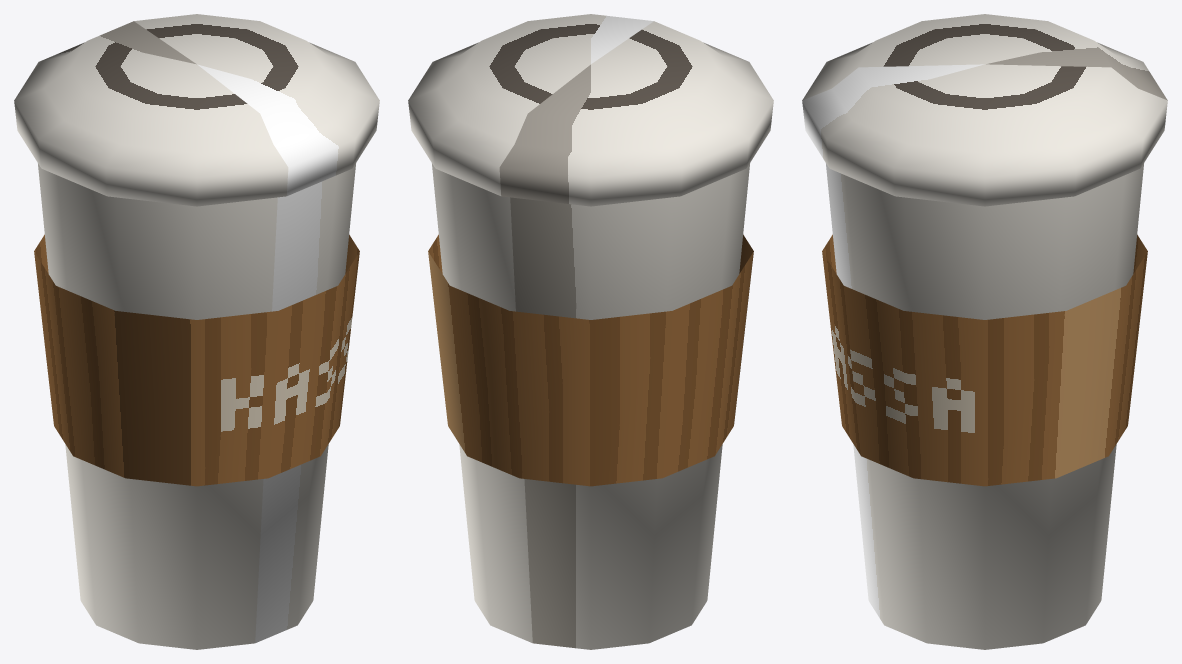
The model's file is drinks-takeawayCup.glb.
3 views of the same model, side by side, from view 1: azimuth 30°, elevation 25°; view 2: azimuth 150°, elevation 25°; view 3: azimuth 270°, elevation 25° (orthographic).
Parts seen in each view (by area): view 1: drinks.takeawayCup; view 2: drinks.takeawayCup; view 3: drinks.takeawayCup.
Boxes of the visible parts, x1=… form: drinks.takeawayCup: x1=14, y1=14, x2=379, y2=649; drinks.takeawayCup: x1=408, y1=14, x2=773, y2=649; drinks.takeawayCup: x1=802, y1=14, x2=1167, y2=649.
Size of the model in its own units: 1.15 by 1.86 by 1.15.
Materials: 3 (3 with a texture image).
